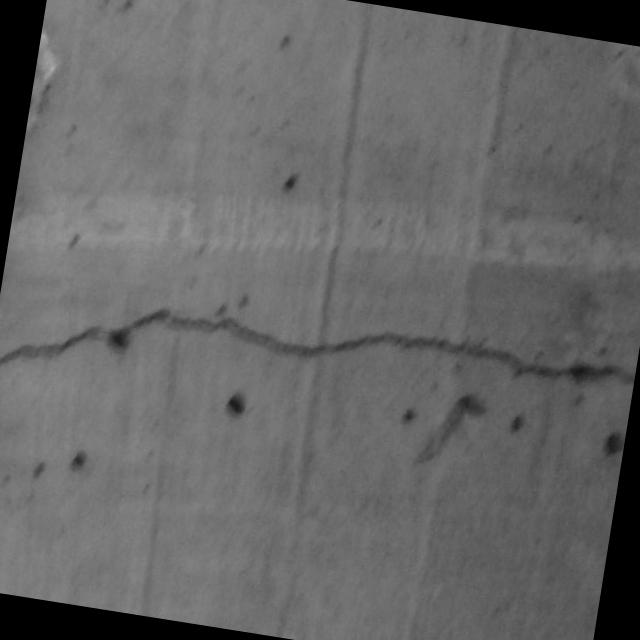crack: (0, 263, 635, 476)
